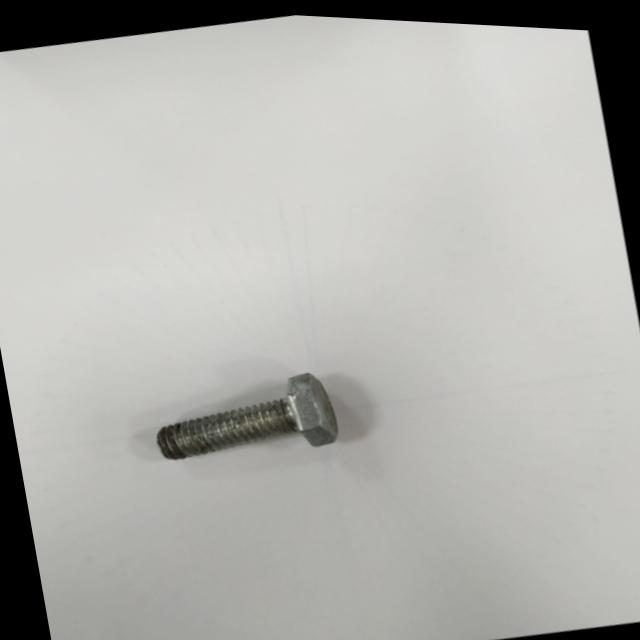Bolt: (155, 370, 339, 459)
